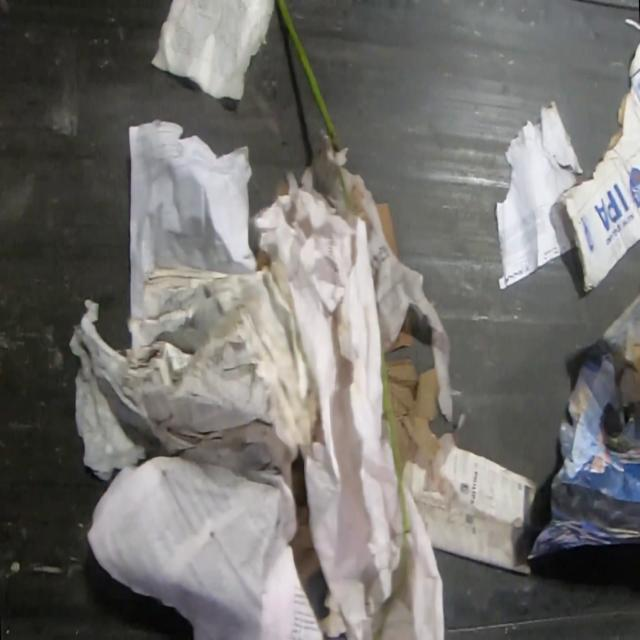cardboard: (561, 38, 640, 293), (383, 359, 441, 480), (373, 201, 398, 261), (392, 306, 418, 349)
